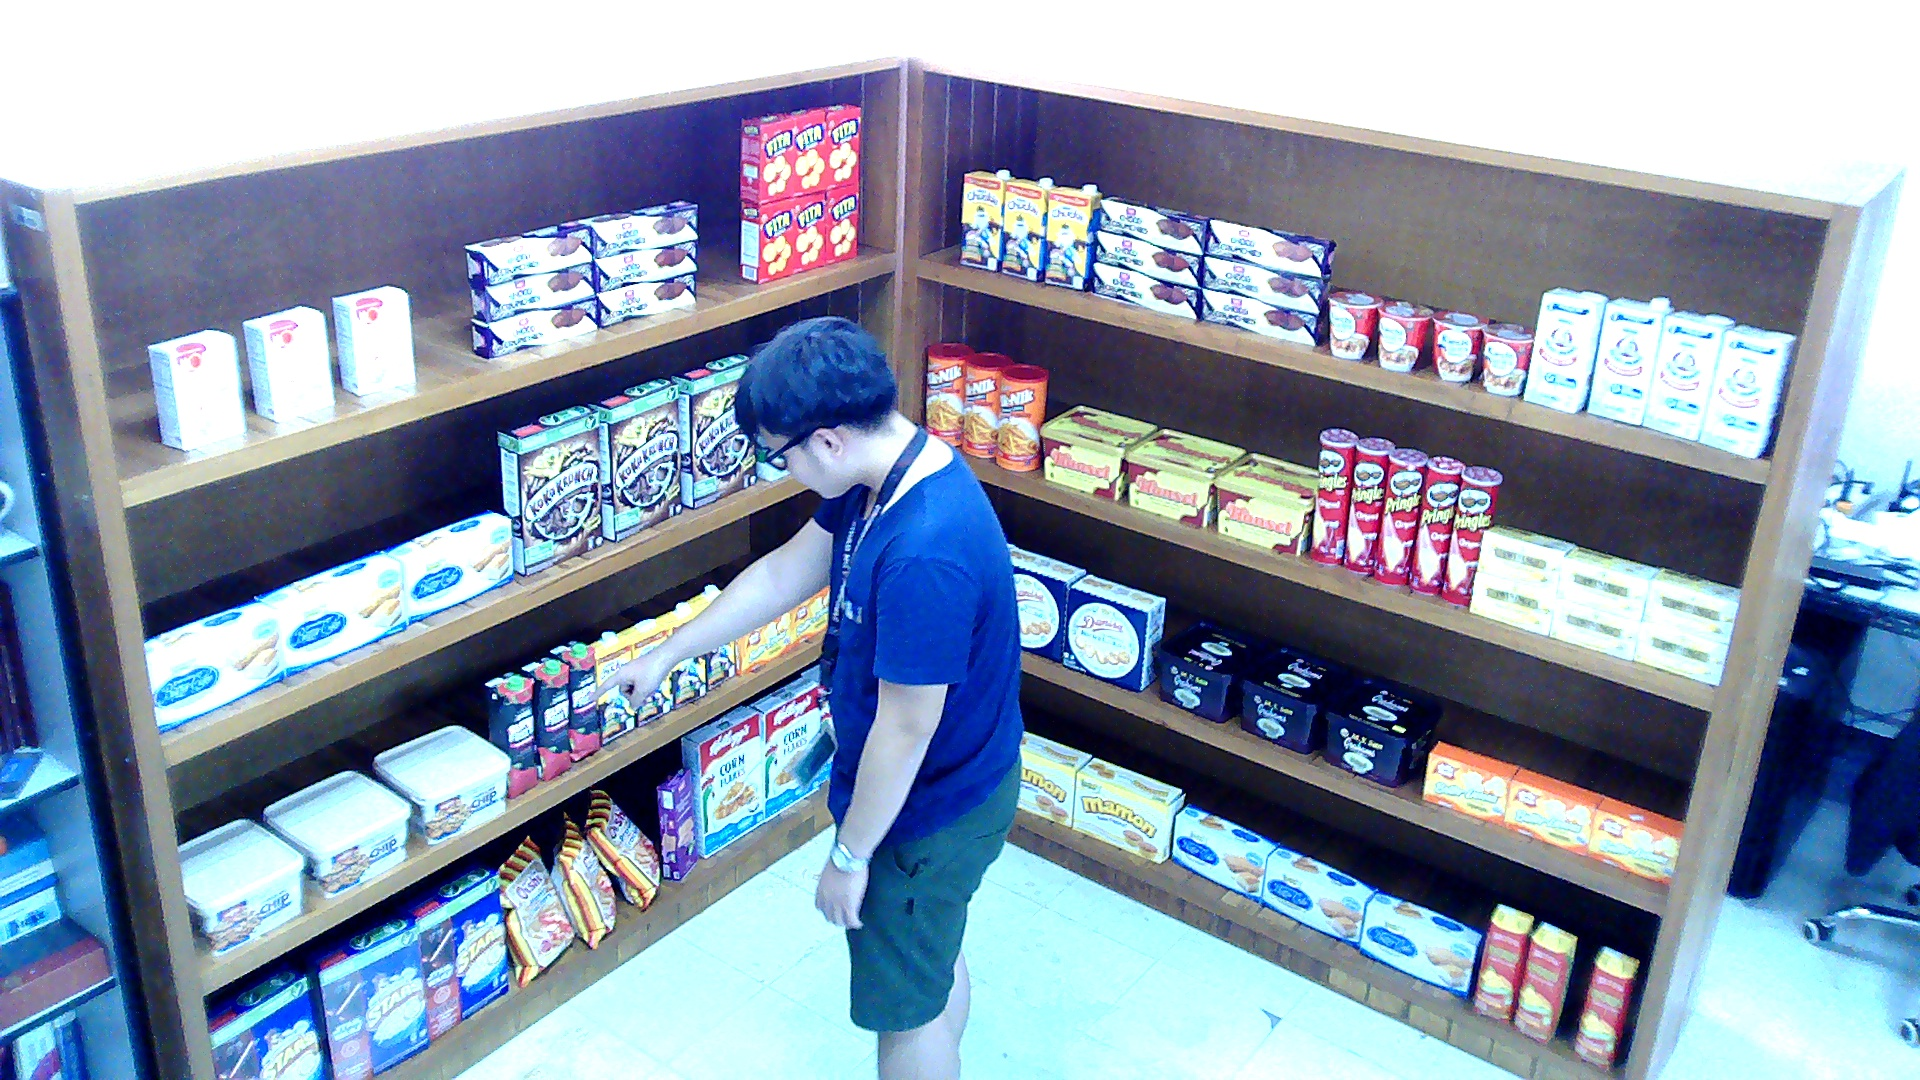Bear brand: (1701, 321, 1797, 458), (1640, 308, 1733, 441), (1584, 295, 1674, 423), (1524, 286, 1608, 412)
Buttercake: (144, 596, 285, 733), (255, 549, 405, 675), (381, 508, 513, 623), (1359, 886, 1485, 999), (1260, 844, 1377, 947), (1170, 801, 1278, 902)
Butterlicious: (1587, 797, 1683, 887), (1503, 765, 1602, 853), (1424, 740, 1517, 823), (734, 607, 791, 675), (791, 584, 830, 643)
Camomille: (1557, 545, 1656, 619), (1644, 567, 1740, 641), (1476, 522, 1572, 592), (1634, 621, 1727, 684), (1551, 598, 1638, 659), (1470, 571, 1554, 634)
Choco Crunchies: (462, 218, 591, 286), (468, 260, 594, 323), (471, 296, 597, 357), (1206, 215, 1335, 276), (1200, 287, 1326, 346), (576, 197, 696, 256), (1203, 257, 1329, 313), (1097, 195, 1208, 254), (1092, 263, 1200, 319), (1098, 230, 1200, 286), (597, 272, 693, 326), (594, 240, 696, 289)
Chocolate Chips: (261, 770, 411, 900), (177, 819, 303, 959), (372, 724, 510, 843)
Chuckie: (1044, 182, 1101, 290), (1001, 175, 1052, 281), (959, 168, 1010, 269), (591, 630, 630, 684), (600, 683, 633, 744), (617, 619, 668, 657), (672, 655, 705, 709), (638, 675, 671, 724), (654, 603, 702, 635), (705, 641, 735, 688)
Danisa: (1062, 573, 1164, 692), (1008, 542, 1086, 661)
Fita: (738, 110, 795, 204), (738, 198, 792, 284), (819, 101, 861, 187), (785, 108, 824, 194), (795, 191, 825, 270), (828, 185, 858, 261)
Grahams: (1322, 674, 1439, 787), (1239, 646, 1359, 754), (1152, 621, 1278, 722)
Hansel: (1125, 427, 1248, 528), (1038, 404, 1155, 501), (1212, 452, 1314, 555)
Head: (726, 310, 900, 504)
Honey Stars: (300, 916, 429, 1078), (395, 862, 506, 1040), (203, 964, 326, 1077)
Kellogg Corn Flakes: (681, 704, 765, 859), (747, 675, 819, 819)
Kimchi Noodles: (1430, 308, 1487, 382), (1376, 299, 1433, 371), (1326, 288, 1383, 358), (1481, 322, 1532, 396)
Koko Krunch: (498, 402, 603, 575), (588, 375, 681, 542), (672, 351, 756, 508)
Locally Mango: (1572, 945, 1641, 1071), (1512, 918, 1578, 1044), (1469, 902, 1532, 1024)
Mamon: (1071, 756, 1185, 864), (1017, 728, 1092, 825)
Oishi Prawn: (495, 834, 573, 987), (582, 787, 660, 911), (549, 810, 615, 950)
Pik-nik: (993, 364, 1047, 470), (959, 351, 1010, 457), (921, 342, 972, 445)
Pringles: (1439, 465, 1502, 602), (1406, 454, 1463, 594), (1374, 447, 1428, 584), (1341, 436, 1395, 573), (1307, 425, 1358, 562)
Super Fruits: (483, 669, 537, 799), (519, 653, 570, 779), (549, 639, 597, 761)
Wafer: (654, 764, 696, 879)
iHop: (143, 326, 242, 450), (242, 303, 335, 422), (330, 286, 414, 396)
